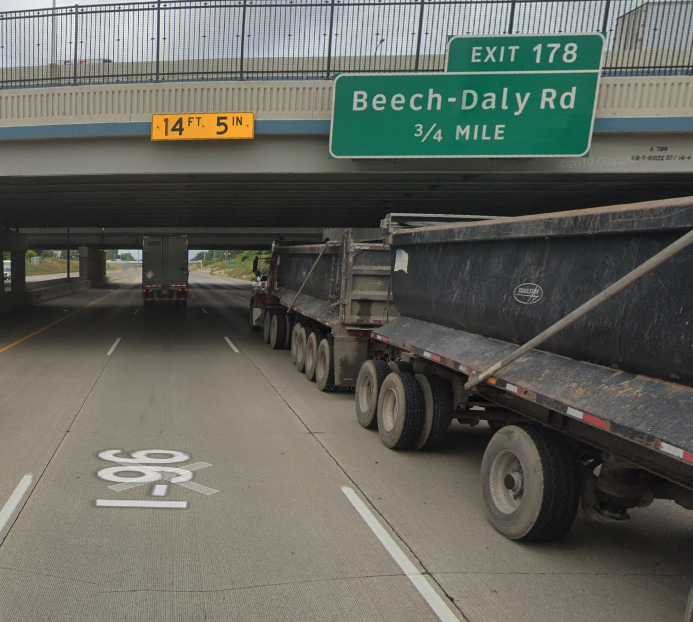1: (158, 115, 175, 141)
4: (168, 114, 186, 140)
5: (212, 112, 232, 140)
overheadsign: (152, 109, 257, 145)
